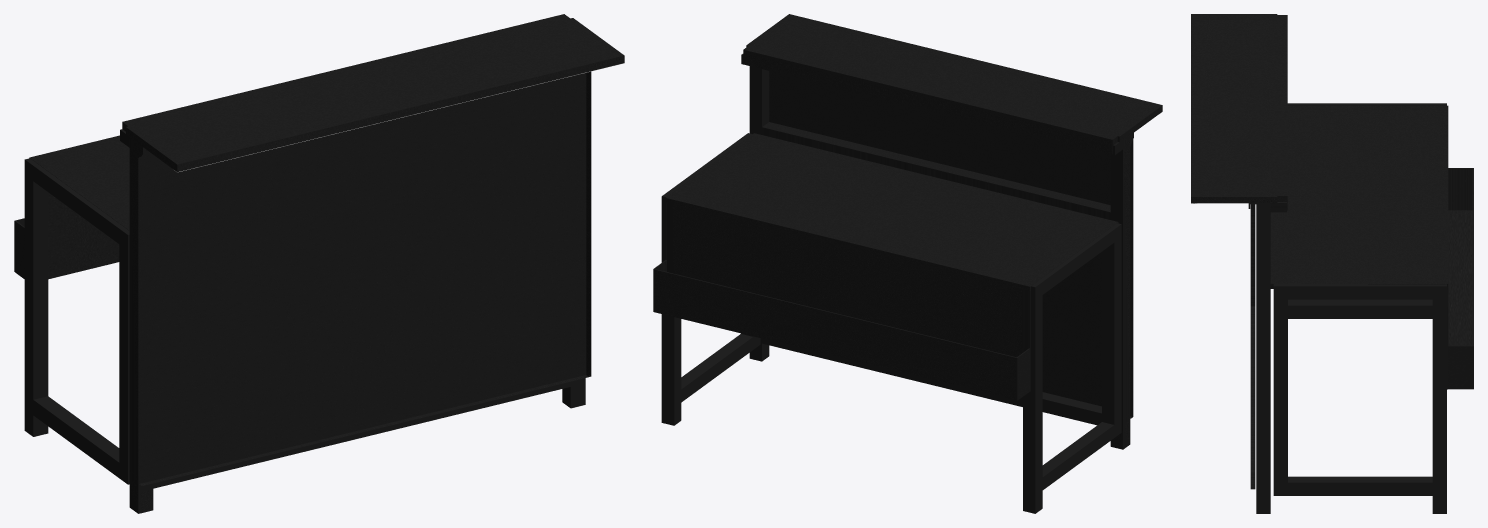
File: BarModel.glb
The picture shows the model from 3 angles, left to right: view 1: azimuth 30°, elevation 25°; view 2: azimuth 150°, elevation 25°; view 3: azimuth 270°, elevation 25°; orthographic projection. The views are drawn at different scales.
Parts seen in each view (by area): view 1: PLANSZA.004, PLANSZA.001, SZUFLADA.001; view 2: SZUFLADA.001, PLANSZA.001, PLANSZA.004; view 3: SZUFLADA.001, PLANSZA.004, PLANSZA.001.
Part boxes in pixels (bbox=[...]): PLANSZA.004: bbox=[141, 71, 591, 485]; PLANSZA.001: bbox=[139, 72, 588, 485]; SZUFLADA.001: bbox=[14, 14, 624, 513]; SZUFLADA.001: bbox=[653, 14, 1162, 513]; PLANSZA.001: bbox=[769, 71, 1133, 418]; PLANSZA.004: bbox=[769, 71, 1131, 413]; SZUFLADA.001: bbox=[1191, 14, 1473, 513]; PLANSZA.004: bbox=[1250, 204, 1255, 489]; PLANSZA.001: bbox=[1250, 307, 1255, 488].
Size of the model in its own units: 1.51 by 1.21 by 0.979.
Materials: 4 (3 with a texture image).
